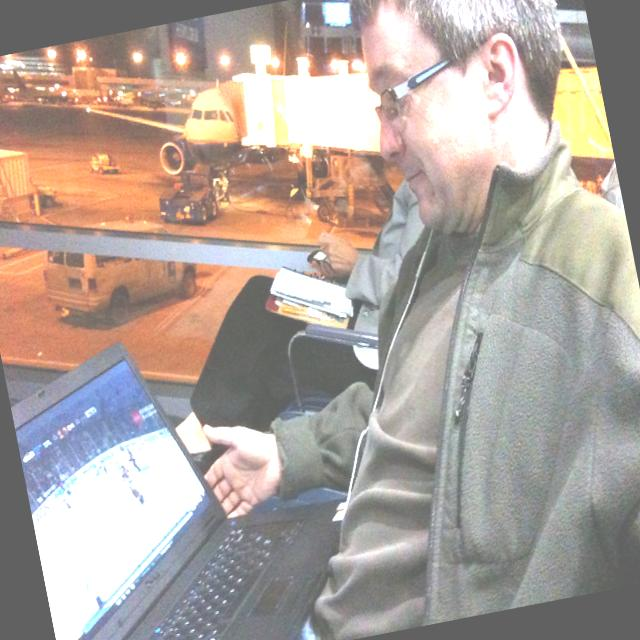Vehicle: (219, 22, 398, 210), (40, 224, 202, 325), (156, 170, 220, 230)
